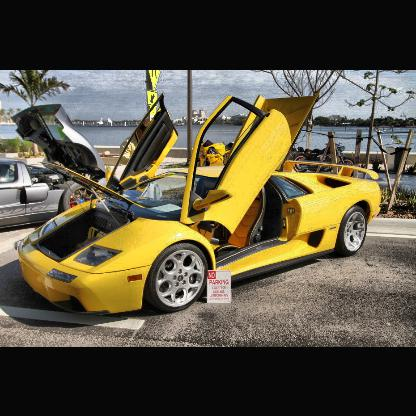Lamborghini Diablo Coupe 2001: (16, 85, 390, 324)
